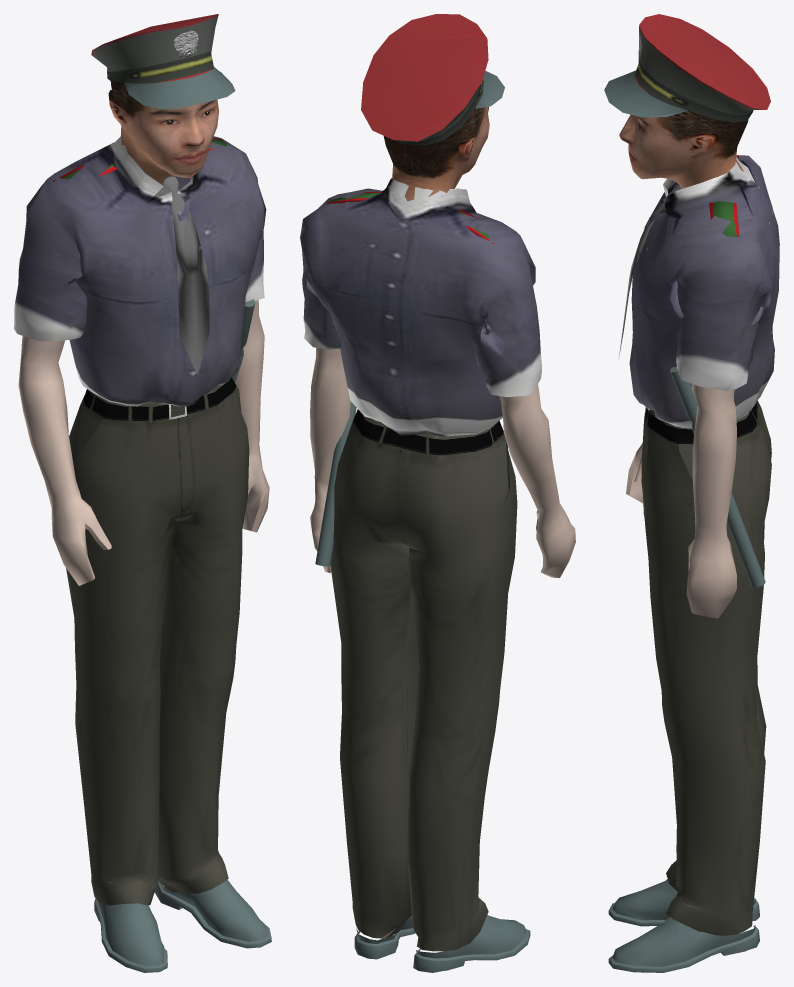
Rendered from guard.glb.
3 views of the same model, side by side, from view 1: azimuth 30°, elevation 25°; view 2: azimuth 150°, elevation 25°; view 3: azimuth 270°, elevation 25° (orthographic).
Visible parts, largest first — view 1: 保安, de3; view 2: 保安, Cylinder01; view 3: 保安, Cylinder01, Box01, de3.
Boxes of the visible parts, x1,y1,x2,y2 form: 保安: (14, 14, 271, 972); de3: (163, 176, 209, 374); 保安: (300, 14, 575, 972); Cylinder01: (315, 402, 356, 566); 保安: (604, 14, 779, 972); Cylinder01: (670, 366, 765, 587); Box01: (709, 201, 739, 236); de3: (618, 188, 676, 359).
Bounding box in the file's own units: 48.77 × 180 × 31.42.
9 materials, 6 textured.
